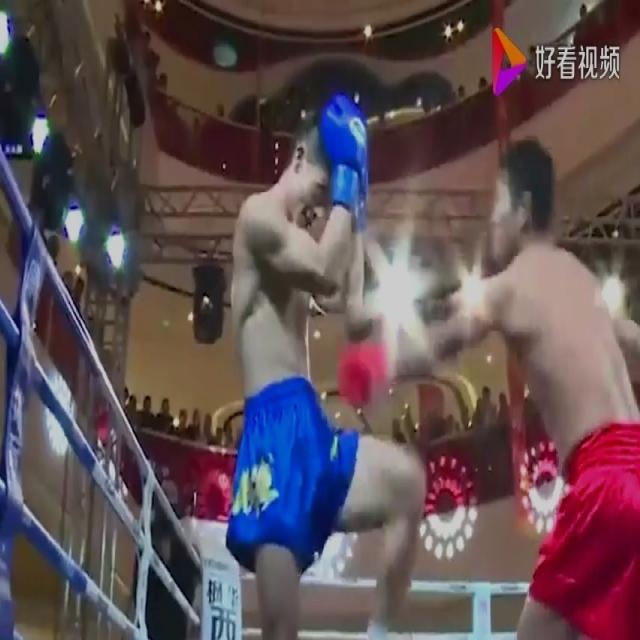fight: (211, 80, 638, 639)
